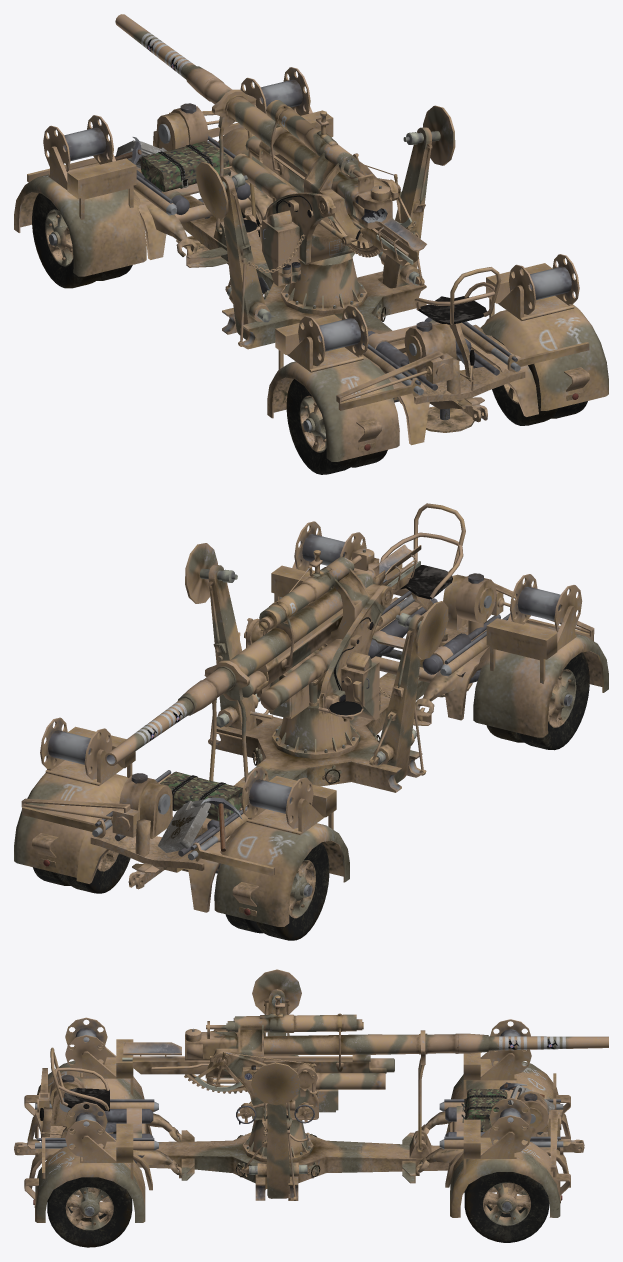
3 renders of one model, top to bottom at view 1: azimuth 30°, elevation 25°; view 2: azimuth 150°, elevation 25°; view 3: azimuth 270°, elevation 25°, orthographic. The views are drawn at different scales.
Visible parts, largest first — view 1: Object_4, Object_5, Object_3, Object_8, Object_7, Object_6; view 2: Object_4, Object_3, Object_5, Object_8, Object_7, Object_6; view 3: Object_3, Object_8, Object_5, Object_4, Object_7, Object_6.
Boxes of the visible parts, x1,y1,x2,y2 form: Object_4: (14, 73, 608, 461); Object_5: (19, 67, 589, 474); Object_3: (27, 67, 589, 473); Object_8: (186, 66, 453, 346); Object_7: (115, 14, 455, 345); Object_6: (221, 106, 431, 323); Object_4: (14, 527, 608, 926); Object_3: (21, 503, 590, 939); Object_5: (22, 521, 603, 940); Object_8: (105, 543, 448, 783); Object_7: (106, 543, 443, 774); Object_6: (178, 545, 421, 766); Object_3: (14, 1018, 584, 1229); Object_8: (122, 970, 488, 1198); Object_5: (14, 1017, 584, 1247); Object_4: (35, 1044, 563, 1230); Object_7: (123, 969, 608, 1200); Object_6: (123, 989, 393, 1178).
Bounding box in the file's own units: 530 × 448 × 1203.
Materials: 2 (2 with a texture image).
